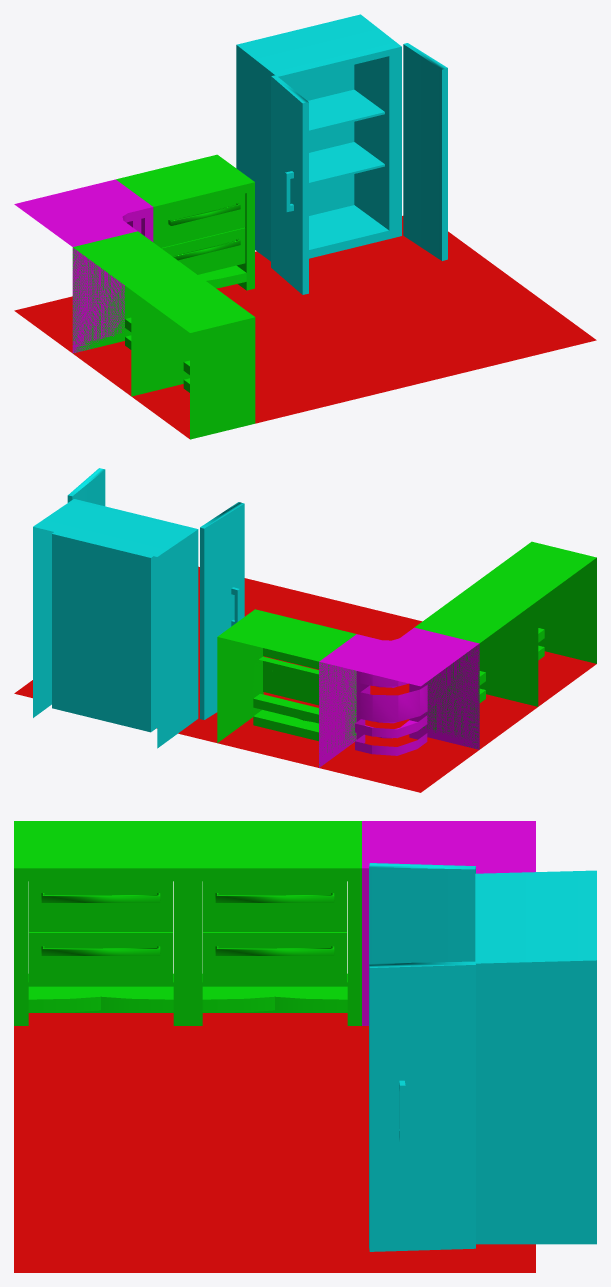
The picture shows the model from 3 angles, top to bottom: view 1: azimuth 30°, elevation 25°; view 2: azimuth 150°, elevation 25°; view 3: azimuth 270°, elevation 25°; orthographic projection. The views are drawn at different scales.
Parts seen in each view (by area): view 1: pasted__Aufbewahrungsschrank, pasted__Boden, Küchentheke_1_gerade_low2, Küchentheke_1_gerade_low3, Küchentheke_1_gerade_low1, Küchentheke_1_ecke_low; view 2: pasted__Aufbewahrungsschrank, pasted__Boden, Küchentheke_1_ecke_low, Küchentheke_1_gerade_low3, Küchentheke_1_gerade_low2, Küchentheke_1_gerade_low1; view 3: pasted__Boden, pasted__Aufbewahrungsschrank, Küchentheke_1_gerade_low1, Küchentheke_1_gerade_low2, Küchentheke_1_ecke_low.
Part boxes in pixels (x1,y1,x2,y2): pasted__Aufbewahrungsschrank: (236, 14, 447, 294); pasted__Boden: (14, 216, 596, 438); Küchentheke_1_gerade_low2: (131, 274, 255, 439); Küchentheke_1_gerade_low3: (116, 154, 254, 290); Küchentheke_1_gerade_low1: (72, 231, 196, 396); Küchentheke_1_ecke_low: (14, 179, 153, 353); pasted__Aufbewahrungsschrank: (33, 468, 244, 748); pasted__Boden: (14, 566, 596, 792); Küchentheke_1_ecke_low: (319, 627, 479, 767); Küchentheke_1_gerade_low3: (217, 609, 356, 764); Küchentheke_1_gerade_low2: (473, 541, 596, 706); Küchentheke_1_gerade_low1: (414, 584, 538, 748); pasted__Boden: (14, 1013, 535, 1272); pasted__Aufbewahrungsschrank: (369, 863, 596, 1251); Küchentheke_1_gerade_low1: (188, 821, 361, 1025); Küchentheke_1_gerade_low2: (14, 821, 187, 1025); Küchentheke_1_ecke_low: (362, 821, 535, 1025).
Bounding box in the file's own units: 4 × 1.8 × 3.35.
